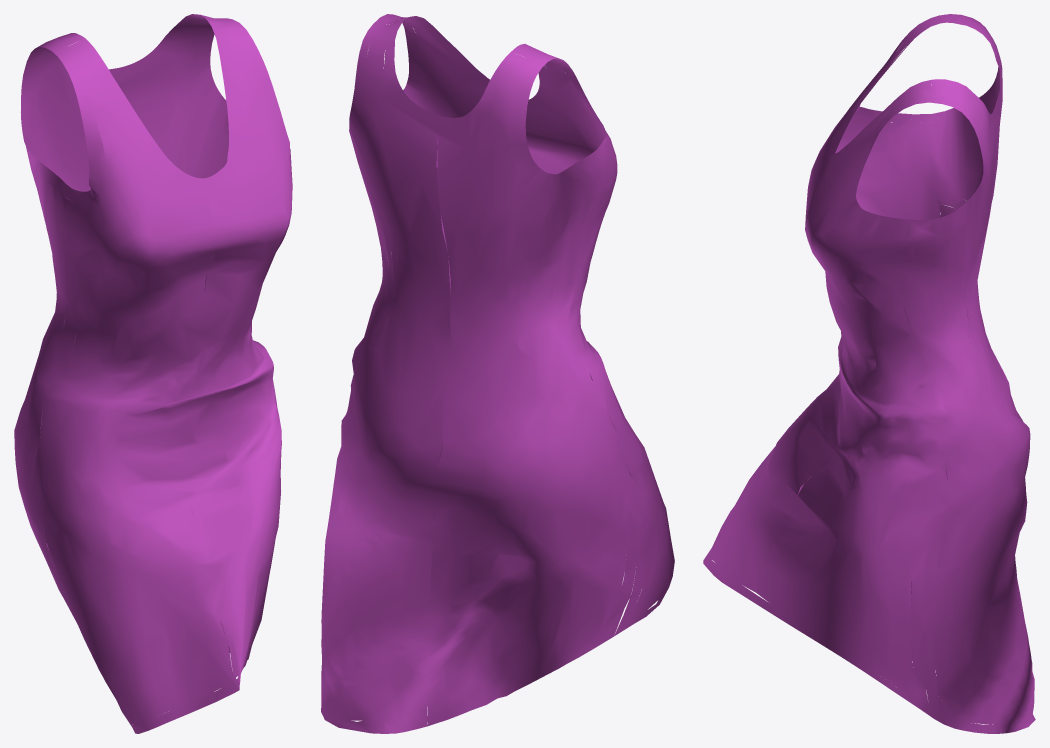
The model's file is dress.glb.
3 views of the same model, side by side, from view 1: azimuth 30°, elevation 25°; view 2: azimuth 150°, elevation 25°; view 3: azimuth 270°, elevation 25° (orthographic). The views are drawn at different scales.
Parts seen in each view (by area): view 1: Dress; view 2: Dress; view 3: Dress.
Part boxes in pixels (<box>): Dress: <box>14,14,292,733</box>; Dress: <box>321,14,674,733</box>; Dress: <box>703,14,1035,733</box>.
Size of the model in its own units: 0.363 by 0.9125 by 0.4306.
